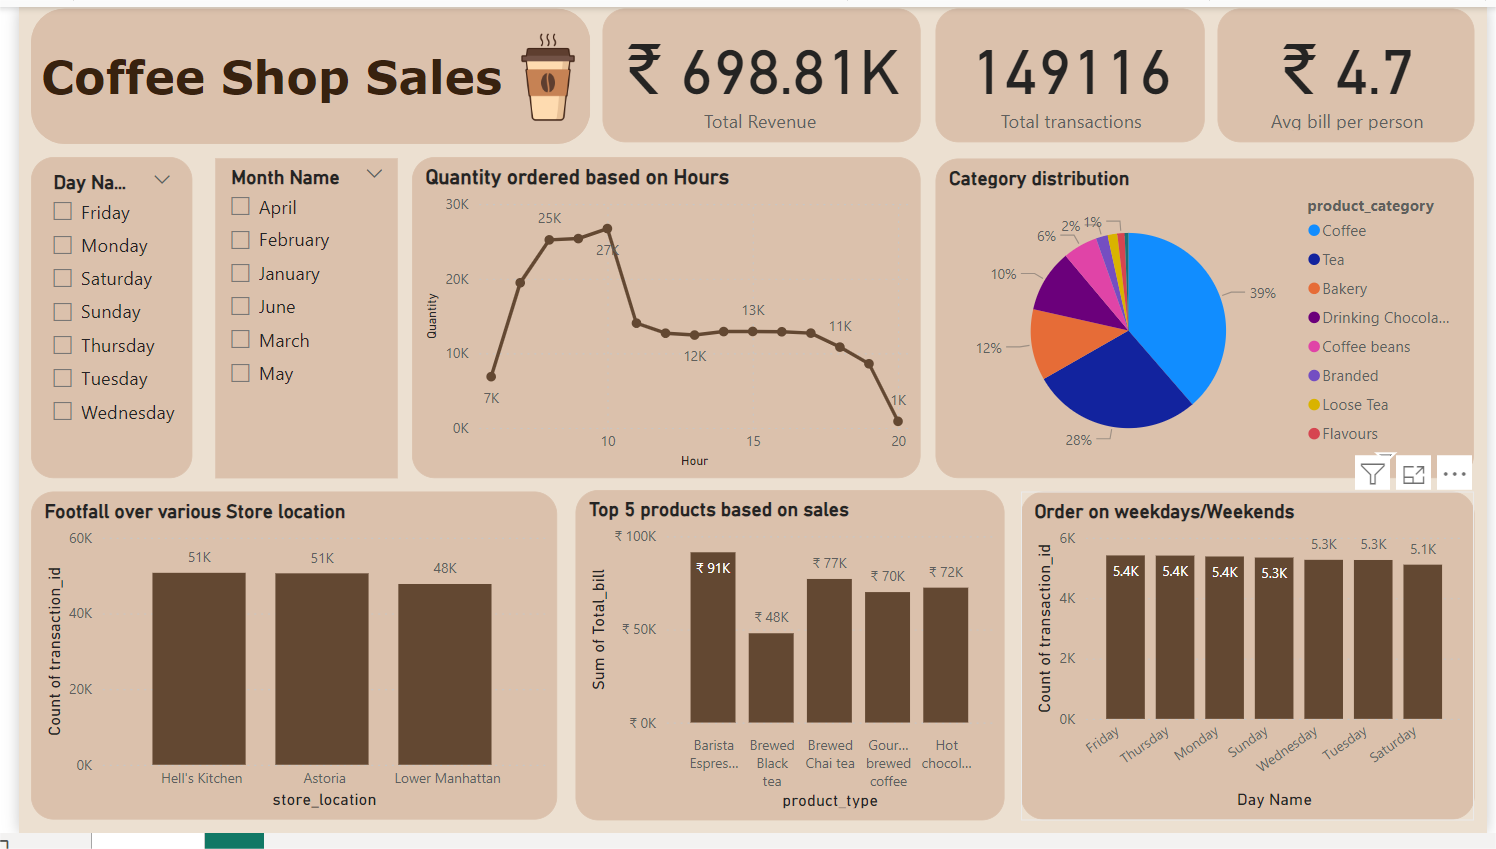

This screenshot's page, from the dashboard's own definition file:
{"tool":"powerbi","page":{"name":"Page 1","canvas":[1280,720],"ordinal":0},"visuals":[{"type":"lineChart","title":"Quantity ordered based on Hours","fields":{"Category":["Transactions.Hour"],"Y":["Sum(Transactions.transaction_qty)"]},"box":[342.2,130.2,443.7,280.1],"z":0},{"type":"pieChart","title":"Category distribution","fields":{"Category":["Transactions.product_category"],"Y":["Sum(Transactions.Total_bill)"]},"box":[799.5,131.7,469.4,278.6],"z":1000},{"type":"columnChart","title":"Footfall over various Store location","fields":{"Category":["Transactions.store_location"],"Y":["CountNonNull(Transactions.transaction_id)"]},"box":[10.6,422.5,458.8,286.2],"z":2000},{"type":"columnChart","title":"Top 5 products based on sales","fields":{"Category":["Transactions.product_type"],"Y":["Sum(Transactions.Total_bill)"]},"box":[484.5,420.9,374,287.7],"z":3000},{"type":"columnChart","title":"Order on weekdays/Weekends","fields":{"Category":["Transactions.Day Name"],"Y":["CountNonNull(Transactions.transaction_id)"]},"box":[873.7,422.5,395.2,286.2],"z":4000},{"type":"slicer","fields":{"Values":["Transactions.Day Name"]},"box":[10.6,130.2,140.8,280.1],"z":5000},{"type":"slicer","fields":{"Values":["Transactions.Month Name"]},"box":[171.1,131.7,159,278.6],"z":6000},{"type":"card","fields":{"Values":["Transactions.Revenue"]},"box":[508.8,1.5,277.1,116.6],"z":7000},{"type":"card","fields":{"Values":["Transactions.Total transactions"]},"box":[799.5,1.5,234.7,116.6],"z":8000},{"type":"card","fields":{"Values":["Transactions.Avg bill per person"]},"box":[1044.8,1.5,224.1,116.6],"z":9000},{"type":"shape","box":[10.6,1.5,487.6,118.1],"z":10000},{"type":"image","box":[413.4,16.7,95.4,87.8],"z":11000}]}

Visuals, with their boxes in screenshot pixels (x1, y1, x2, y2), scaled from the page's 1280x720 canvas onto the 1496x849 screenshot:
"Quantity ordered based on Hours" lineChart: l=400, t=154, r=919, b=484
"Category distribution" pieChart: l=934, t=155, r=1483, b=484
"Footfall over various Store location" columnChart: l=12, t=498, r=549, b=836
"Top 5 products based on sales" columnChart: l=566, t=496, r=1003, b=836
"Order on weekdays/Weekends" columnChart: l=1021, t=498, r=1483, b=836
slicer - Transactions.Day Name: l=12, t=154, r=177, b=484
slicer - Transactions.Month Name: l=200, t=155, r=386, b=484
card - Transactions.Revenue: l=595, t=2, r=919, b=139
card - Transactions.Total transactions: l=934, t=2, r=1209, b=139
card - Transactions.Avg bill per person: l=1221, t=2, r=1483, b=139
shape: l=12, t=2, r=582, b=141
image: l=483, t=20, r=595, b=123
